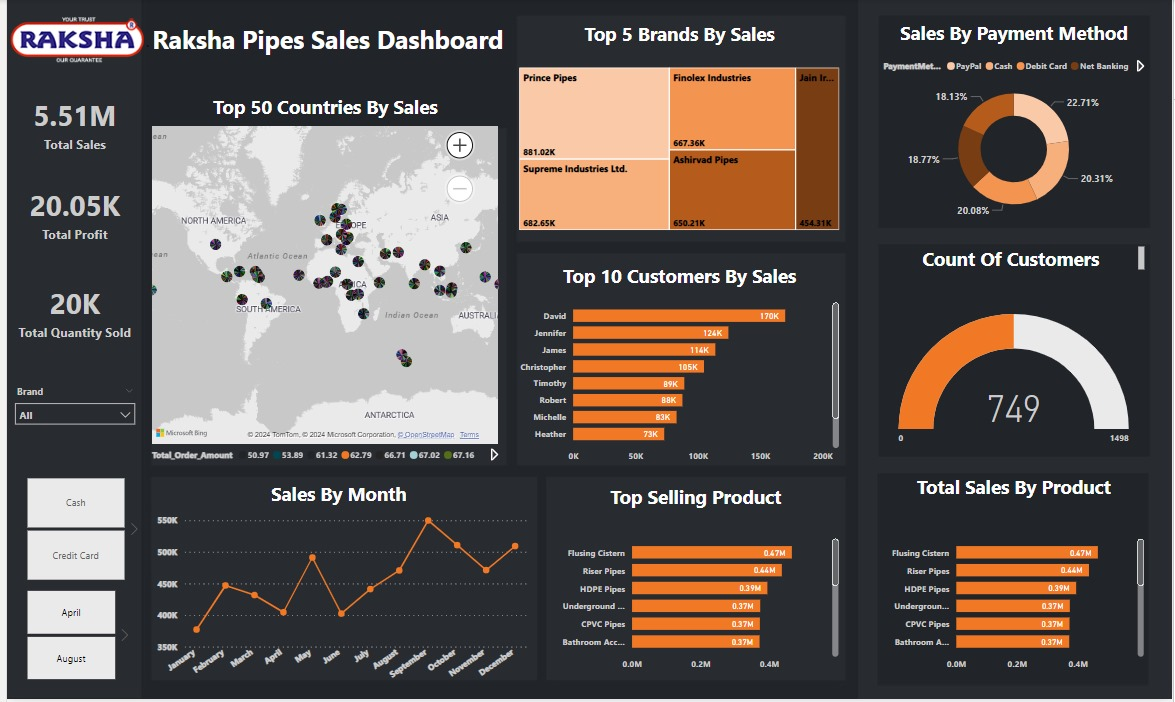

What the dashboard file says about the page in this screenshot:
{"tool":"powerbi","page":{"name":"Page 1","canvas":[1500,900],"ordinal":0},"visuals":[{"type":"textbox","box":[162.9,25.6,491.6,82.9],"z":0},{"type":"lineChart","fields":{"Y":["Sum(raksha_database orderdetails.Total_Order_Amount)"],"Category":["raksha_database orders.Order_Date.Variation.Date Hierarchy.Month"]},"box":[188.1,652.9,485.6,231.6],"z":1000},{"type":"textbox","box":[181.7,615.9,496.9,46.6],"z":2000},{"type":"textbox","box":[696.3,619.1,379.5,43.4],"z":3000},{"type":"textbox","box":[1122.4,313.6,345.7,48.2],"z":4000},{"type":"textbox","box":[1122.4,22.5,345.7,56.3],"z":5000},{"type":"textbox","box":[181,117.6,455.4,43.7],"z":6000},{"type":"card","fields":{"Values":["Sum(raksha_database orderdetails.Total_Order_Amount)"]},"box":[0,98,174.9,125.2],"z":7000},{"type":"treemap","fields":{"Values":["Sum(raksha_database orderdetails.Total_Order_Amount)"],"Group":["raksha_database products.Brand"]},"box":[654.5,83.6,421.3,218.7],"z":8000},{"type":"donutChart","fields":{"Category":["raksha_database payments.PaymentMethod"],"Y":["Sum(raksha_database orderdetails.Total_Order_Amount)"]},"box":[1122.4,67.5,345.7,223.5],"z":9000},{"type":"textbox","box":[654.5,24.1,421.3,43.4],"z":10000},{"type":"slicer","fields":{"Values":["raksha_database products.Brand"]},"box":[0,491.6,174.9,90.5],"z":11000},{"type":"textbox","box":[654.5,334.5,421.3,53.1],"z":12000},{"type":"card","fields":{"Values":["raksha_database orderdetails.Total_Profit"]},"box":[0,214.1,174.9,123.7],"z":13000},{"type":"gauge","fields":{"Y":["CountNonNull(raksha_database customers.Customer_ID)"]},"box":[1122.4,400.4,345.7,181.7],"z":14000},{"type":"slicer","fields":{"Values":["raksha_database payments.PaymentMethod"]},"box":[0,609.3,174.9,144.8],"z":15000},{"type":"map","fields":{"Category":["raksha_database customers.Country"],"Series":["raksha_database orderdetails.Total_Order_Amount"]},"box":[181,159.9,455.4,444.9],"z":16000},{"type":"barChart","fields":{"Category":["raksha_database customers.FirstName"],"Y":["Sum(raksha_database orderdetails.Total_Order_Amount)"]},"box":[654,378,421,227],"z":17000},{"type":"clusteredBarChart","fields":{"Category":["raksha_database products.Product"],"Y":["Sum(raksha_database orderdetails.Total_Order_Amount)"]},"box":[1122,681.6,345.3,191.5],"z":18000},{"type":"textbox","box":[1122,606.2,345.3,46.7],"z":19000},{"type":"clusteredBarChart","fields":{"Category":["raksha_database products.Product"],"Y":["Sum(raksha_database orderdetails.Total_Order_Amount)"]},"box":[696.7,681.6,378.5,191.5],"z":20000},{"type":"card","fields":{"Values":["Sum(raksha_database orderdetails.Quantity)"]},"box":[0,343.8,174.9,116.1],"z":21000},{"type":"slicer","fields":{"Values":["raksha_database orders.Month Name"]},"box":[0,754,162.9,128.2],"z":22000},{"type":"image","box":[0,0,181,108.6],"z":23000}]}

Visuals, with their boxes in screenshot pixels (x1, y1, x2, y2), scaled from the page's 1500x900 canvas onto the 1175x702 screenshot:
textbox: box(128, 20, 513, 85)
lineChart - Sum(raksha_database orderdetails.Total_Order_Amount) x raksha_database orders.Order_Date.Variation.Date Hierarchy.Month: box(147, 509, 528, 690)
textbox: box(142, 480, 532, 517)
textbox: box(545, 483, 843, 517)
textbox: box(879, 245, 1150, 282)
textbox: box(879, 18, 1150, 61)
textbox: box(142, 92, 499, 126)
card - Sum(raksha_database orderdetails.Total_Order_Amount): box(0, 76, 137, 174)
treemap - Sum(raksha_database orderdetails.Total_Order_Amount) x raksha_database products.Brand: box(513, 65, 843, 236)
donutChart - raksha_database payments.PaymentMethod x Sum(raksha_database orderdetails.Total_Order_Amount): box(879, 53, 1150, 227)
textbox: box(513, 19, 843, 53)
slicer - raksha_database products.Brand: box(0, 383, 137, 454)
textbox: box(513, 261, 843, 302)
card - raksha_database orderdetails.Total_Profit: box(0, 167, 137, 263)
gauge - CountNonNull(raksha_database customers.Customer_ID): box(879, 312, 1150, 454)
slicer - raksha_database payments.PaymentMethod: box(0, 475, 137, 588)
map - raksha_database customers.Country x raksha_database orderdetails.Total_Order_Amount: box(142, 125, 499, 472)
barChart - raksha_database customers.FirstName x Sum(raksha_database orderdetails.Total_Order_Amount): box(512, 295, 842, 472)
clusteredBarChart - raksha_database products.Product x Sum(raksha_database orderdetails.Total_Order_Amount): box(879, 532, 1149, 681)
textbox: box(879, 473, 1149, 509)
clusteredBarChart - raksha_database products.Product x Sum(raksha_database orderdetails.Total_Order_Amount): box(546, 532, 842, 681)
card - Sum(raksha_database orderdetails.Quantity): box(0, 268, 137, 359)
slicer - raksha_database orders.Month Name: box(0, 588, 128, 688)
image: box(0, 0, 142, 85)
